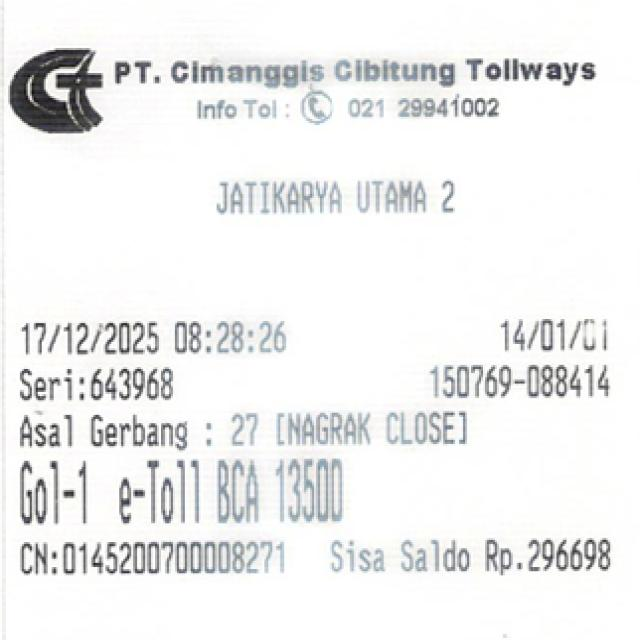date: (15, 315, 308, 359)
store: (108, 57, 600, 87)
total: (270, 458, 355, 524)
